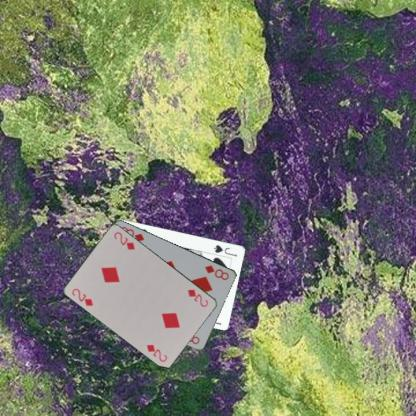2d: (69, 285, 95, 308), (185, 286, 210, 308)
8d: (202, 262, 231, 282)
Js: (212, 242, 238, 258)
